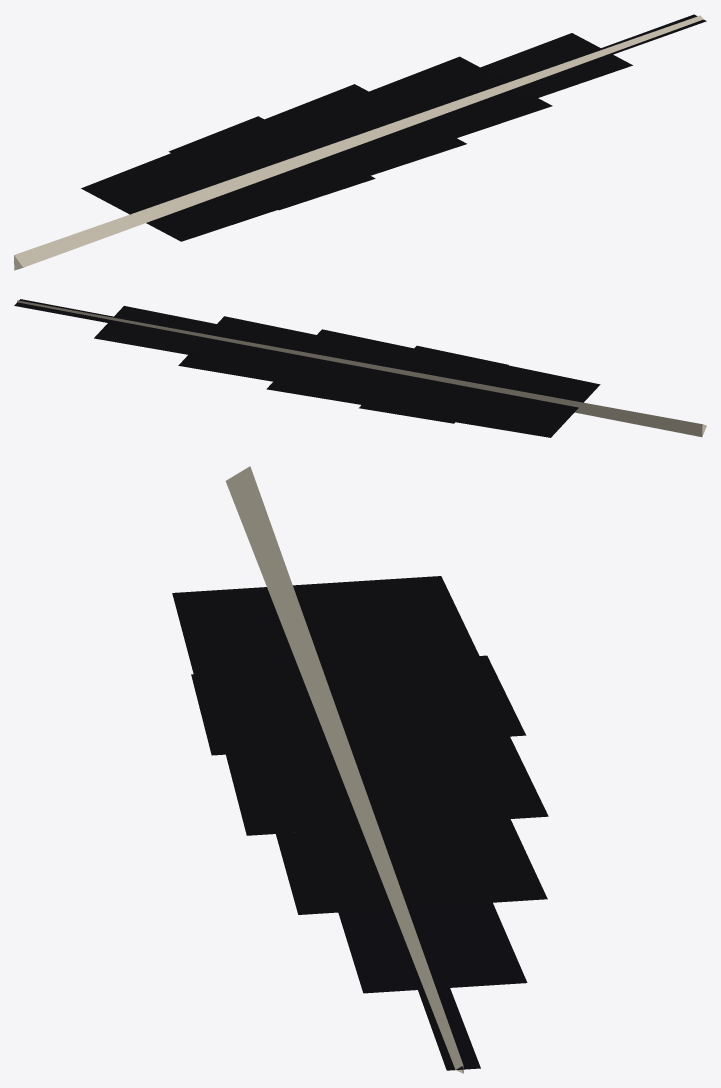
Rendered from feather_crow.glb.
3 renders of one model, top to bottom at view 1: azimuth 30°, elevation 25°; view 2: azimuth 150°, elevation 25°; view 3: azimuth 270°, elevation 25°, orthographic. The views are drawn at different scales.
Visible parts, largest first — view 1: feather_crow; view 2: feather_crow; view 3: feather_crow.
Part boxes in pixels (x1,y1,x2,y2): feather_crow: (14, 14, 706, 270); feather_crow: (14, 299, 706, 437); feather_crow: (172, 466, 548, 1073).
Bounding box in the file's own units: 0.2181 × 0.00721 × 0.0562.
